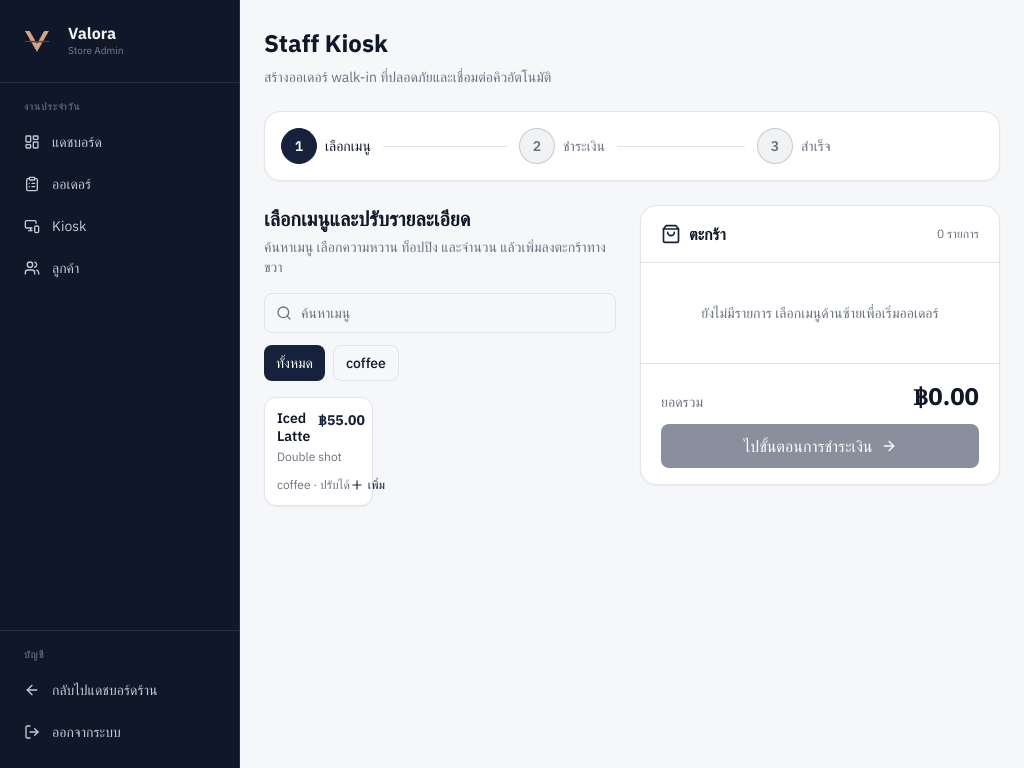
Test case: /staff/kiosk route › hides PromptPay when disabled and auto-switches to cash
Click the button labelled "เพิ่ม Iced Latte". click: {"x": 319, "y": 452}
box: [264,397,373,506]
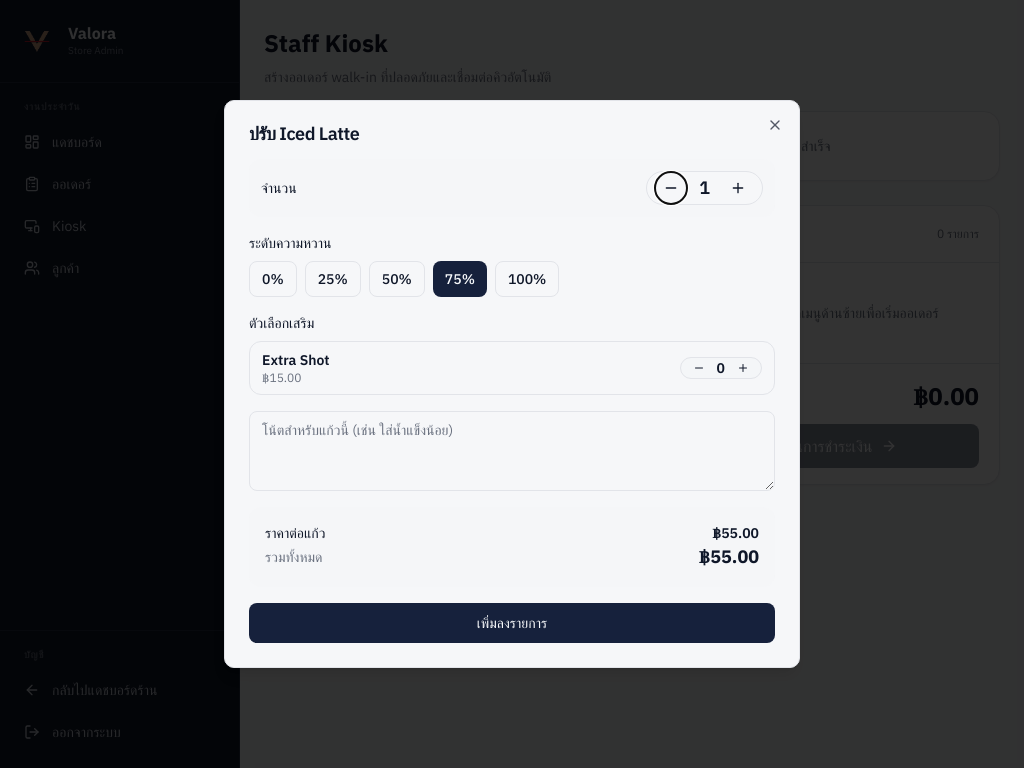
Click the button "เพิ่มลงรายการ". click: {"x": 512, "y": 623}
box: [249,603,775,643]
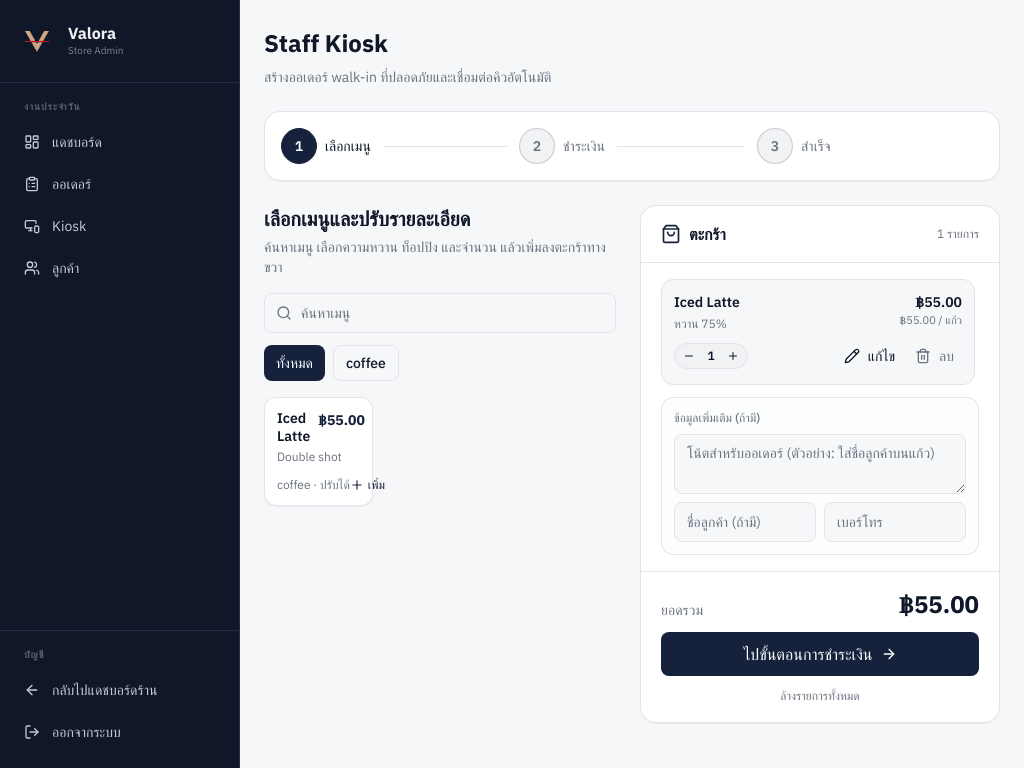
Click the button "ไปขั้นตอนการชำระเงิน". click: {"x": 820, "y": 654}
box: [661,632,979,676]
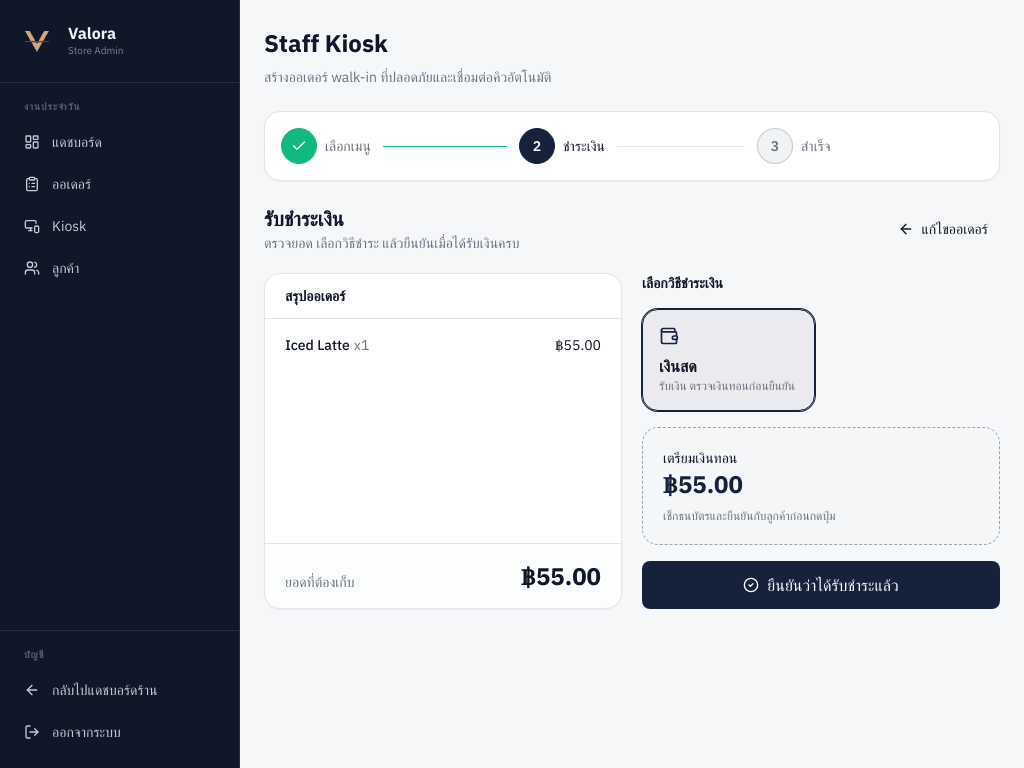
Check: the button "เงินสด รับเงิน ตรวจเงินทอนก่อนยืนยัน" is shown, box [642,309,815,411]
Check: the text "เตรียมเงินทอน" is shown, box [663,449,737,467]
